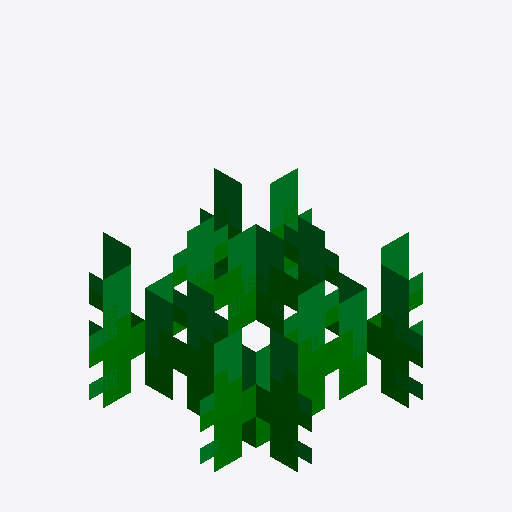
A Minecraft block model of 4 cuboids, rendered isometrically (azimuth 45°, elevation 35.3°) with the resource pack's own textures.
Visible parts, largest first — element 1, element 4, element 2, element 3.
Part boxes in pixels (x1,y1,x2,y2): element 1: (89,232,311,471); element 4: (200,232,422,471); element 2: (200,168,422,407); element 3: (89,168,311,407).
Size of the model in its own units: 16 by 16 by 16.